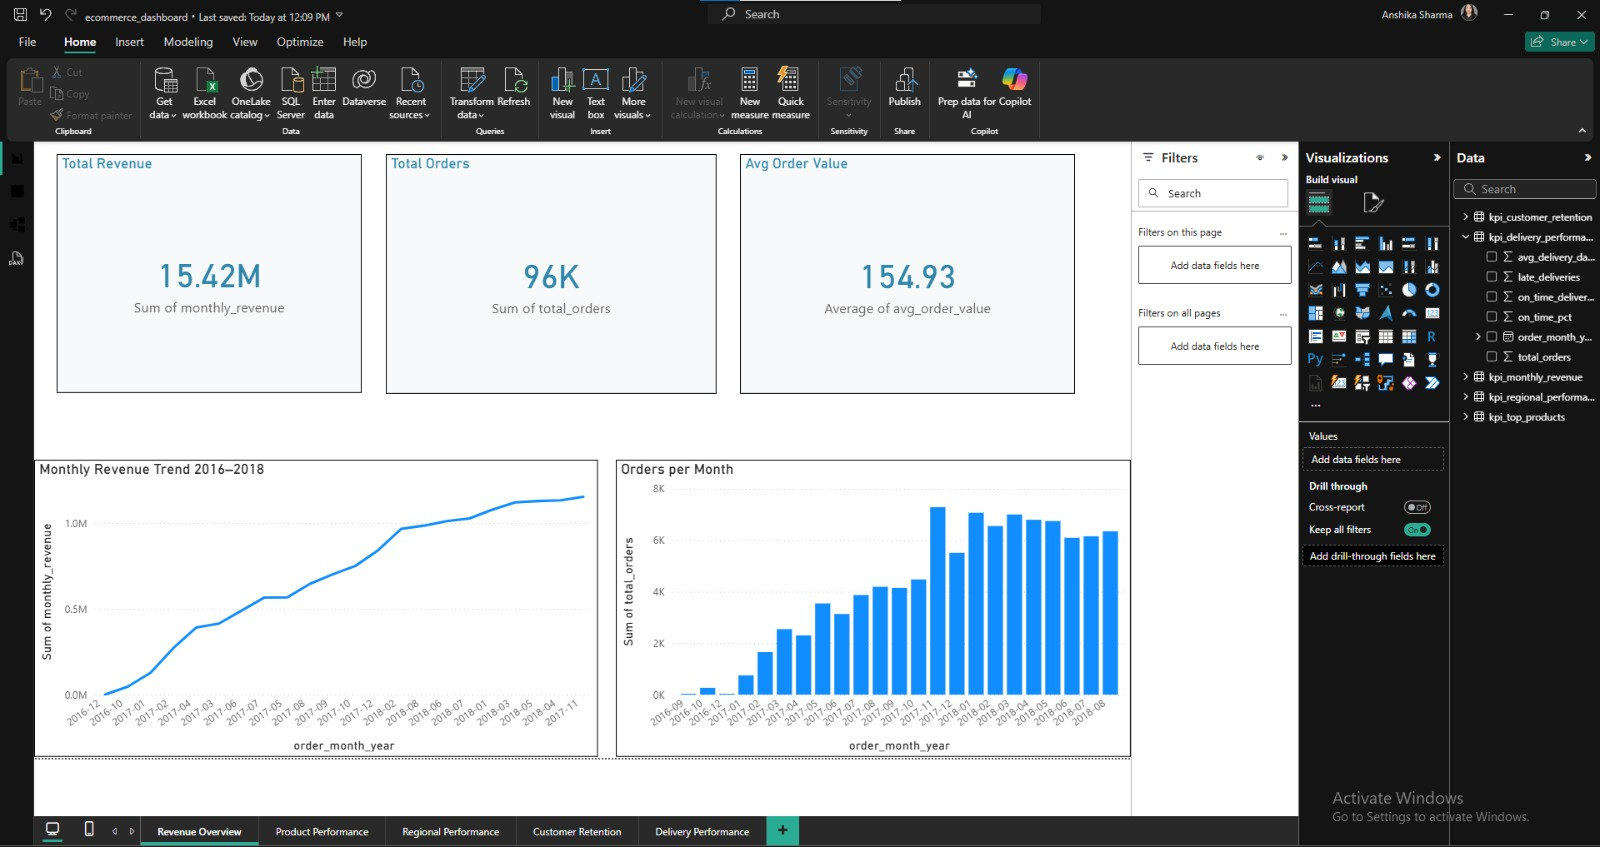

The page's visual inventory and layout, read from the dashboard file:
{"tool":"powerbi","page":{"name":"Revenue Overview","canvas":[1280,720],"ordinal":0},"visuals":[{"type":"card","title":"Total Revenue","fields":{"Values":["Sum(kpi_monthly_revenue.monthly_revenue)"]},"box":[26.4,14.1,356.1,278.6],"z":0},{"type":"card","title":"Total Orders","fields":{"Values":["Sum(kpi_monthly_revenue.total_orders)"]},"box":[410.8,14.1,386.1,280.3],"z":1000},{"type":"card","title":"Avg Order Value","fields":{"Values":["Avg(kpi_monthly_revenue.avg_order_value)"]},"box":[823.4,14.1,391.4,280.3],"z":2000},{"type":"lineChart","title":"Monthly Revenue Trend 2016–2018","fields":{"Y":["Sum(kpi_monthly_revenue.monthly_revenue)"],"Category":["kpi_monthly_revenue.order_month_year"]},"box":[0,372,657.6,347.3],"z":3000},{"type":"clusteredColumnChart","title":"Orders per Month ","fields":{"Category":["kpi_monthly_revenue.order_month_year.Variation.Date Hierarchy.Quarter"],"Y":["Sum(kpi_monthly_revenue.total_orders)"]},"box":[678.8,372,601.2,347.3],"z":4000}]}

Visuals, with their boxes on the page's 1280x720 design canvas (x1, y1, x2, y2). These are canvas units, not pixel positions in the 1600x847 screenshot, which may show the page scaled, cropped or inside an application window:
"Total Revenue" card: Rect(26, 14, 382, 293)
"Total Orders" card: Rect(411, 14, 797, 294)
"Avg Order Value" card: Rect(823, 14, 1215, 294)
"Monthly Revenue Trend 2016–2018" lineChart: Rect(0, 372, 658, 719)
"Orders per Month " clusteredColumnChart: Rect(679, 372, 1280, 719)
